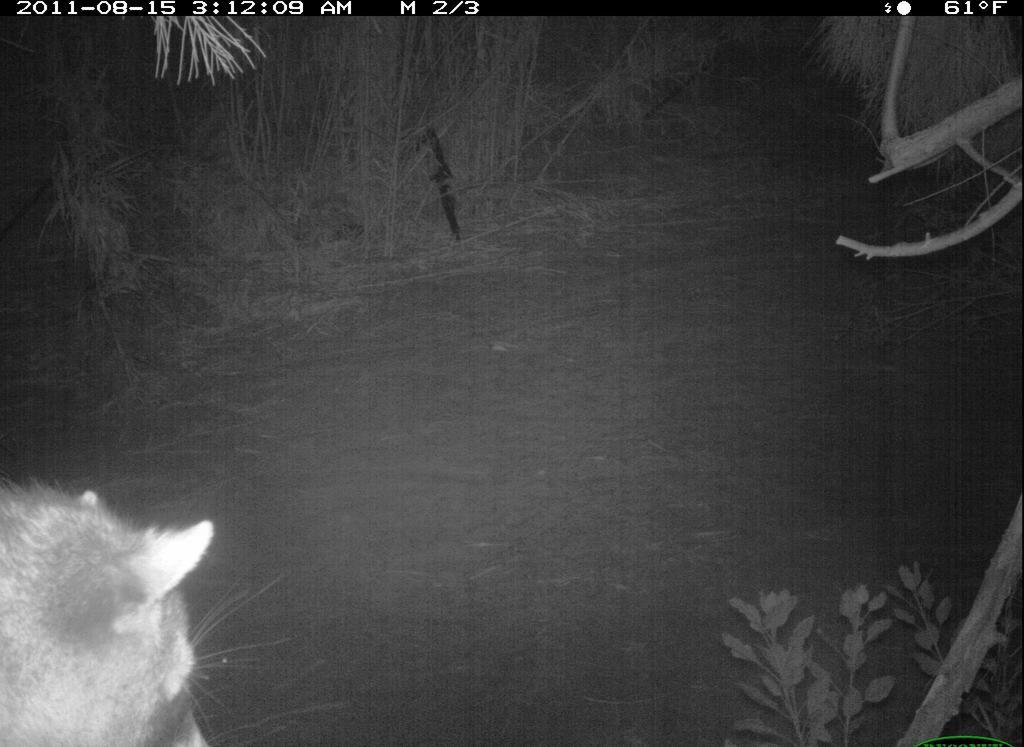raccoon: (9, 465, 276, 747)
